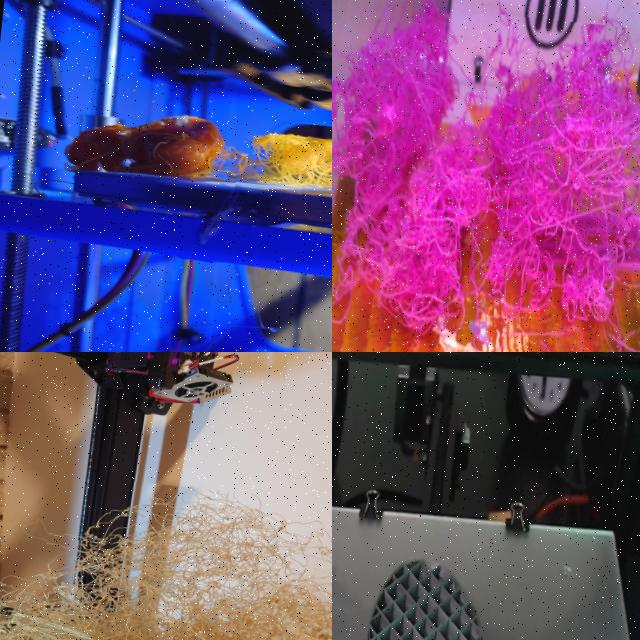spaghetti: (332, 0, 640, 352), (0, 463, 332, 640), (215, 115, 332, 236)
